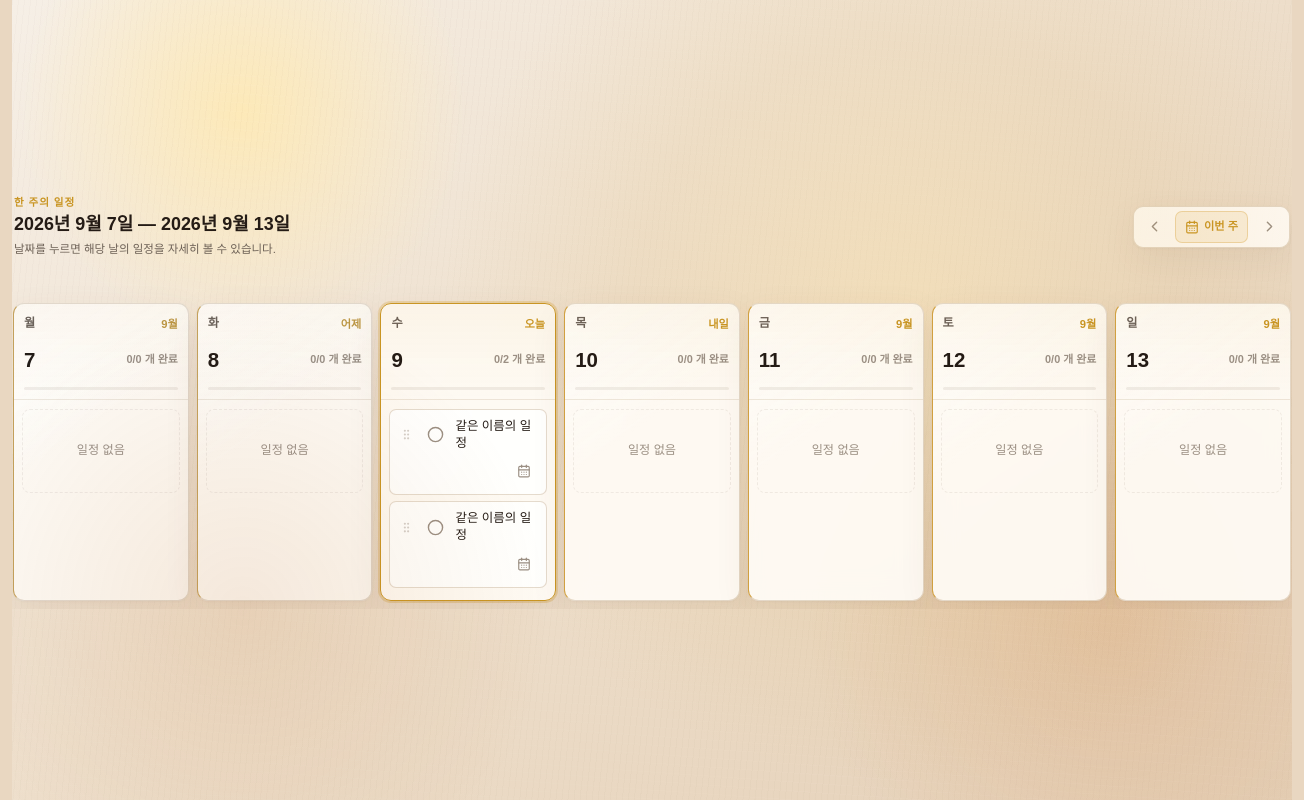
WeeklyPlanner interactions › restores the checkbox and reports a failed save
The image size is (1304, 800).
Click the 1st checkbox named "완료로 표시: 같은 이름의 일정".
click(435, 435)  # box [420, 420, 450, 450]
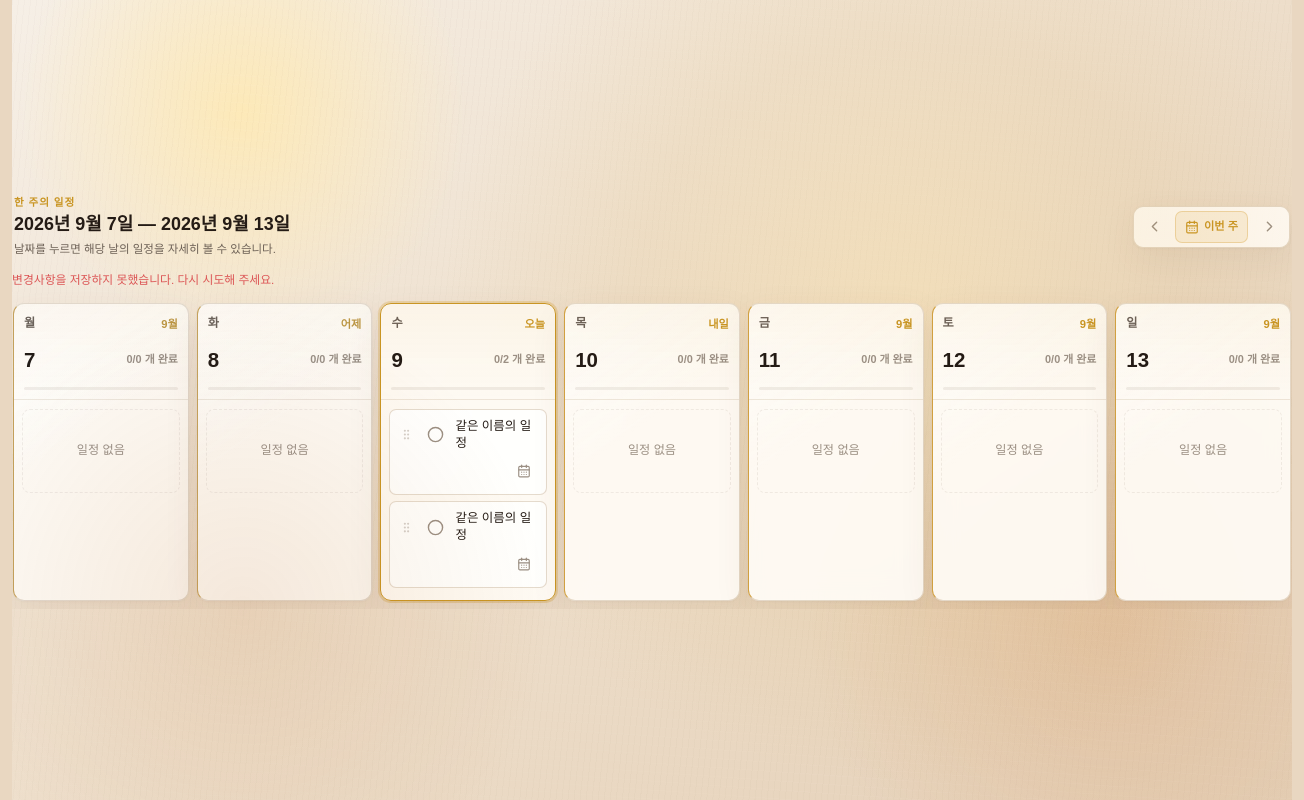
Now the message "변경사항을 저장하지 못했습니다. 다시 시도해 주세요." is shown, box [12, 273, 274, 287]
